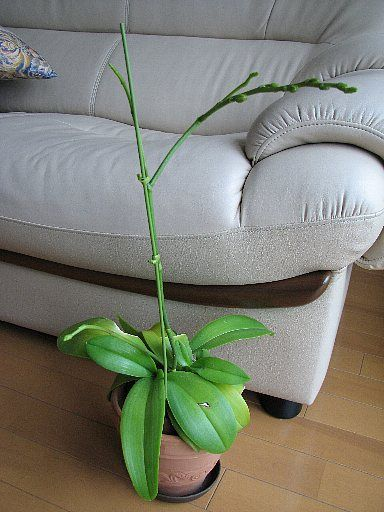orchid branch: (99, 20, 368, 321)
